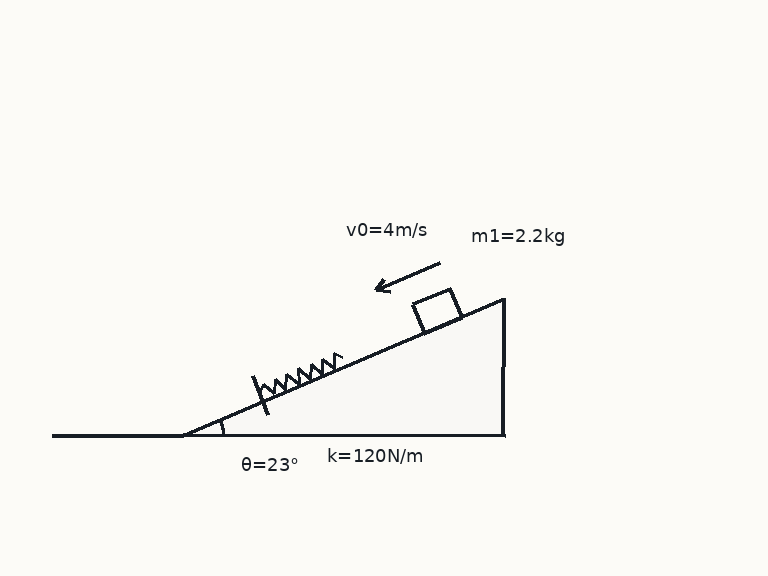block: (410, 286, 464, 335)
ramp: (181, 297, 505, 437)
spring: (258, 351, 345, 396)
